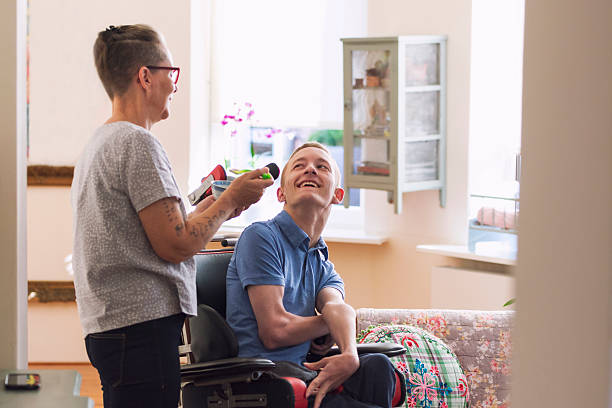without mask: (104, 29, 183, 130), (271, 138, 350, 219)
